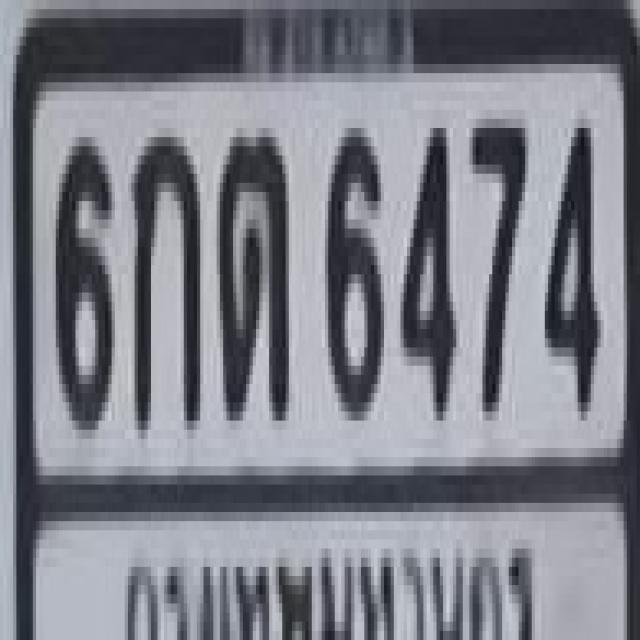-: (217, 128, 286, 411), (131, 128, 197, 421)
4: (397, 119, 453, 411), (542, 110, 594, 402)
6: (53, 128, 109, 421), (325, 119, 381, 411)
7: (468, 114, 524, 407)
